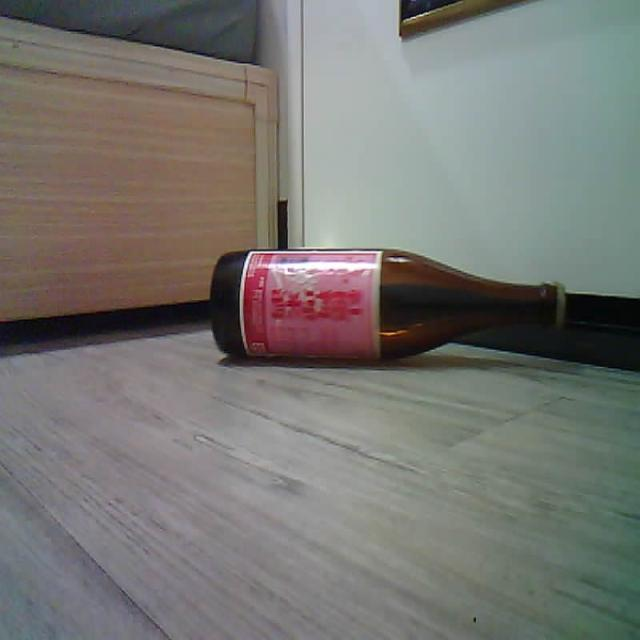bottle: (211, 249, 588, 357)
